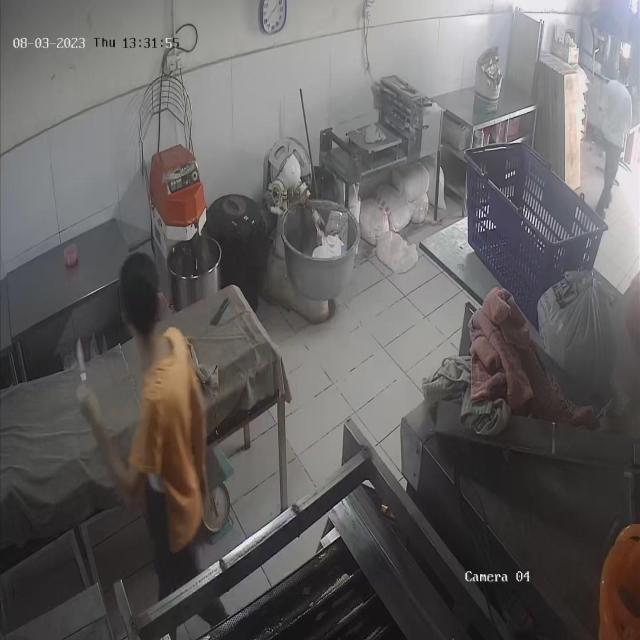Knife: (58, 328, 101, 386)
